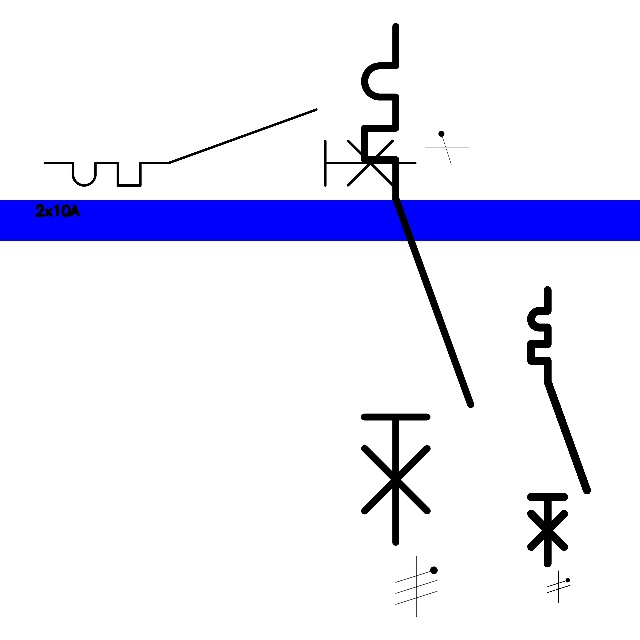interruptor_termomagnetico: (351, 13, 484, 555), (35, 100, 425, 195), (524, 283, 594, 571)
